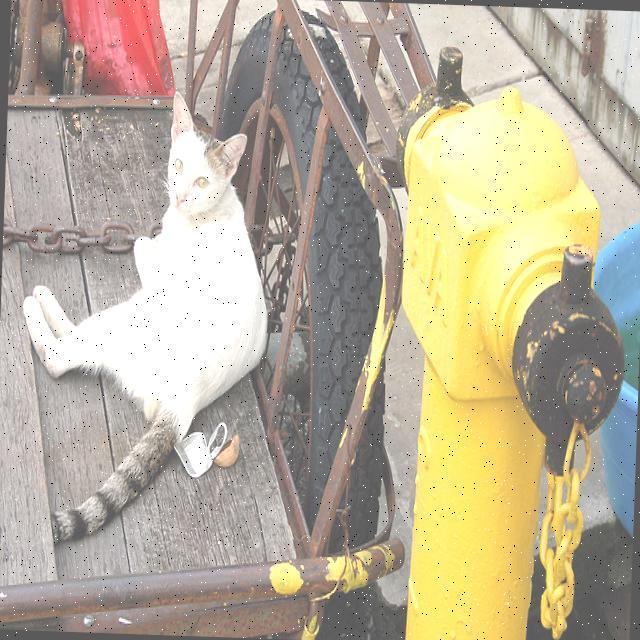fire_hydrant: (376, 42, 637, 640)
